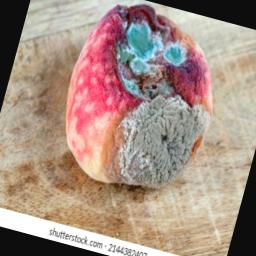Peach Rotten: (44, 0, 236, 205)
